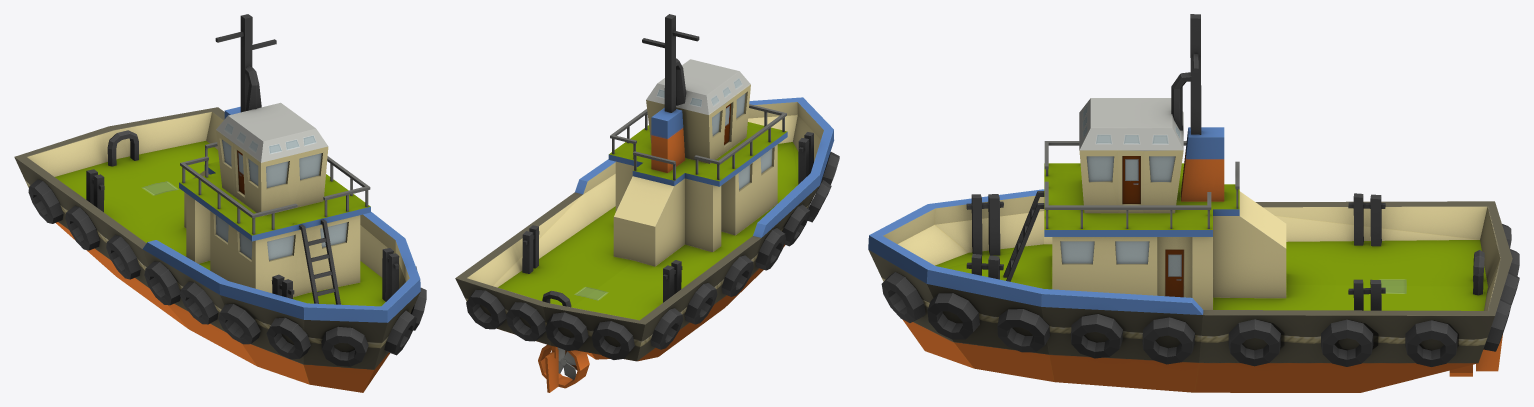
3 views of the same model, side by side, from view 1: azimuth 30°, elevation 25°; view 2: azimuth 150°, elevation 25°; view 3: azimuth 270°, elevation 25° (orthographic). The views are drawn at different scales.
Parts seen in each view (by area): view 1: Tugboat_mesh; view 2: Tugboat_mesh; view 3: Tugboat_mesh.
Boxes of the visible parts, x1,y1,x2,y2 form: Tugboat_mesh: [14, 14, 426, 392]; Tugboat_mesh: [455, 14, 839, 392]; Tugboat_mesh: [868, 14, 1519, 392].
Bounding box in the file's own units: 4.73 × 6.4 × 10.59.
Materials: 1 (1 with a texture image).
